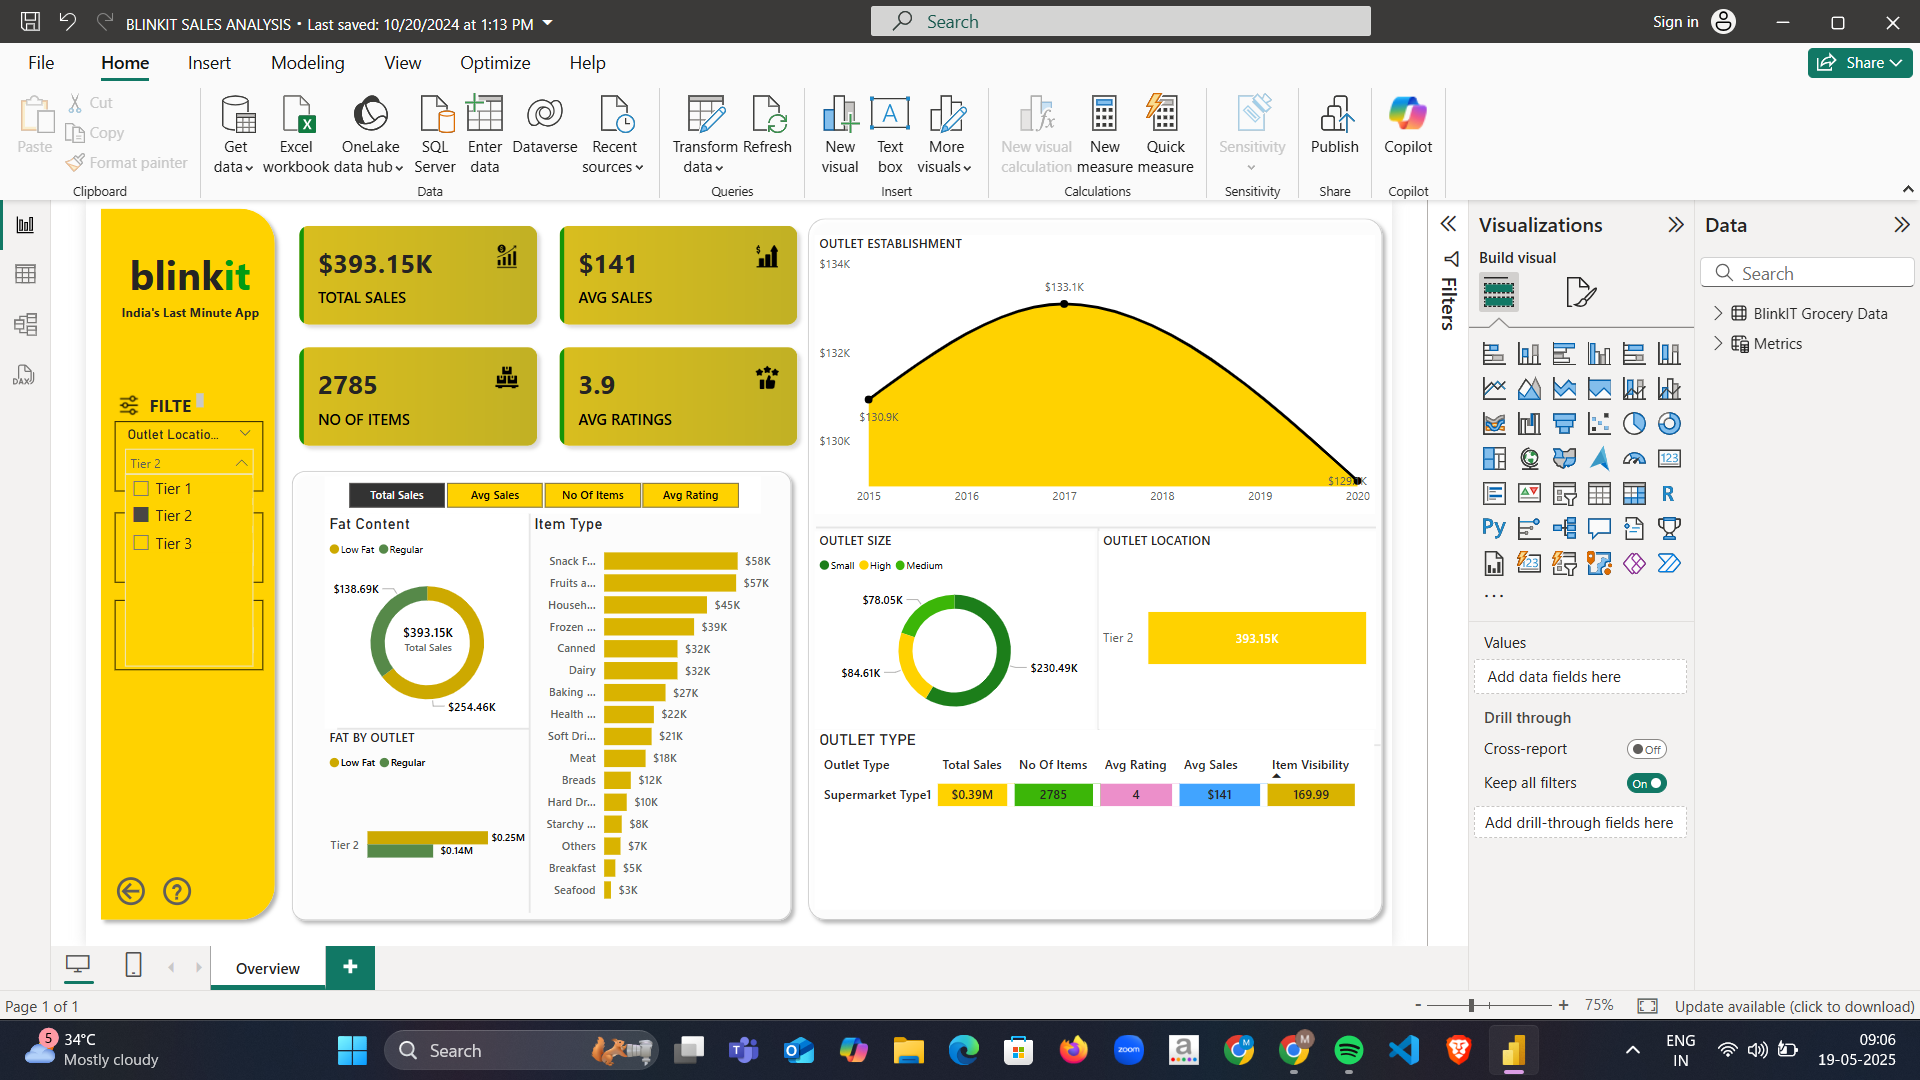

This screenshot's page, from the dashboard's own definition file:
{"tool":"powerbi","page":{"name":"Overview","canvas":[1400,800],"ordinal":0},"visuals":[{"type":"shape","box":[6.7,0,205,781.7],"z":0},{"type":"textbox","box":[33.5,45.6,155.5,80.4],"z":1000},{"type":"textbox","box":[26.8,105.9,170.2,40.2],"z":2000},{"type":"cardVisual","fields":{"Data":["BlinkIT Grocery Data.Total Sales","BlinkIT Grocery Data.Avg Sales","BlinkIT Grocery Data.No Of Items","BlinkIT Grocery Data.Avg Rating"]},"box":[211.8,10.7,569.7,270.8],"z":3000},{"type":"shape","box":[211.8,281.5,553.6,500],"z":4000},{"type":"donutChart","title":"Fat Content","fields":{"Y":["BlinkIT Grocery Data.Total Sales"],"Category":["BlinkIT Grocery Data.Item Fat Content"]},"box":[256,336.5,219.8,230.6],"z":5000},{"type":"slicer","title":"FAT CONTENT","fields":{"Values":["Metrics.Metrics"]},"box":[256,296.2,467.8,40.2],"z":6000},{"type":"cardVisual","fields":{"Data":["BlinkIT Grocery Data.Total Sales"]},"box":[320,436.7,93.3,66.7],"z":7000},{"type":"clusteredBarChart","title":"FAT BY OUTLET","fields":{"Y":["BlinkIT Grocery Data.Total Sales"],"Category":["BlinkIT Grocery Data.Outlet Location Type"],"Series":["BlinkIT Grocery Data.Item Fat Content"]},"box":[256.7,566.7,220,196.7],"z":8000},{"type":"shape","box":[269.4,549.6,206.4,34.9],"z":9000},{"type":"shape","box":[463.8,336.5,24.1,427.6],"z":10000},{"type":"barChart","title":"Item Type","fields":{"Y":["BlinkIT Grocery Data.Total Sales"],"Category":["BlinkIT Grocery Data.Item Type"]},"box":[475.9,336.5,269.4,427.6],"z":11000},{"type":"shape","box":[765.4,10.7,634.1,770.8],"z":12000},{"type":"lineChart","title":"OUTLET ESTABLISHMENT","fields":{"Y":["BlinkIT Grocery Data.Total Sales"],"Category":["BlinkIT Grocery Data.Outlet Establishment Year"]},"box":[781.5,37.5,600.5,298.9],"z":13000},{"type":"shape","box":[782.8,336.5,600.5,29.5],"z":14000},{"type":"donutChart","title":"OUTLET SIZE","fields":{"Category":["BlinkIT Grocery Data.Outlet Size"],"Y":["BlinkIT Grocery Data.Total Sales"]},"box":[781.5,355.2,300.3,211.8],"z":15000},{"type":"shape","box":[1071.1,351.2,29.5,233.2],"z":16000},{"type":"shape","box":[782.8,568.4,303,33.5],"z":17000},{"type":"funnel","title":"OUTLET LOCATION","fields":{"Category":["BlinkIT Grocery Data.Outlet Location Type"],"Y":["Sum(BlinkIT Grocery Data.Sales)"]},"box":[1085.5,355.5,297.3,211.8],"z":18000},{"type":"shape","box":[1085.8,568.3,302.5,32.5],"z":19000},{"type":"pivotTable","title":"OUTLET TYPE","fields":{"Rows":["BlinkIT Grocery Data.Outlet Type"],"Values":["BlinkIT Grocery Data.Total Sales","BlinkIT Grocery Data.No Of Items","BlinkIT Grocery Data.Avg Rating","BlinkIT Grocery Data.Avg Sales","Sum(BlinkIT Grocery Data.Item Visibility)"]},"box":[781.4,568.6,600,192.9],"z":20000},{"type":"slicer","fields":{"Values":["BlinkIT Grocery Data.Outlet Location Type"]},"box":[31.4,237.5,159.5,75.1],"z":21000},{"type":"slicer","fields":{"Values":["BlinkIT Grocery Data.Outlet Size"]},"box":[31.4,335.4,159.5,75.1],"z":21001},{"type":"textbox","box":[63.5,202.7,68.4,34.9],"z":21002},{"type":"slicer","fields":{"Values":["BlinkIT Grocery Data.Item Type"]},"box":[31.4,429.2,159.5,75.1],"z":21003},{"type":"image","box":[27.3,197.3,38.9,45.6],"z":21004},{"type":"actionButton","box":[28.2,721.2,49.6,40.2],"z":21005},{"type":"actionButton","box":[77.7,721.2,50.9,40.2],"z":21007}]}

Visuals, with their boxes on the page's 1400x800 design canvas (x1, y1, x2, y2). These are canvas units, not pixel positions in the 1920x1080 screenshot, which may show the page scaled, cropped or inside an application window:
shape: (x1=7, y1=0, x2=212, y2=782)
textbox: (x1=34, y1=46, x2=189, y2=126)
textbox: (x1=27, y1=106, x2=197, y2=146)
cardVisual - BlinkIT Grocery Data.Total Sales x BlinkIT Grocery Data.Avg Sales: (x1=212, y1=11, x2=782, y2=282)
shape: (x1=212, y1=282, x2=765, y2=782)
"Fat Content" donutChart: (x1=256, y1=336, x2=476, y2=567)
"FAT CONTENT" slicer: (x1=256, y1=296, x2=724, y2=336)
cardVisual - BlinkIT Grocery Data.Total Sales: (x1=320, y1=437, x2=413, y2=503)
"FAT BY OUTLET" clusteredBarChart: (x1=257, y1=567, x2=477, y2=763)
shape: (x1=269, y1=550, x2=476, y2=584)
shape: (x1=464, y1=336, x2=488, y2=764)
"Item Type" barChart: (x1=476, y1=336, x2=745, y2=764)
shape: (x1=765, y1=11, x2=1400, y2=782)
"OUTLET ESTABLISHMENT" lineChart: (x1=782, y1=38, x2=1382, y2=336)
shape: (x1=783, y1=336, x2=1383, y2=366)
"OUTLET SIZE" donutChart: (x1=782, y1=355, x2=1082, y2=567)
shape: (x1=1071, y1=351, x2=1101, y2=584)
shape: (x1=783, y1=568, x2=1086, y2=602)
"OUTLET LOCATION" funnel: (x1=1086, y1=356, x2=1383, y2=567)
shape: (x1=1086, y1=568, x2=1388, y2=601)
"OUTLET TYPE" pivotTable: (x1=781, y1=569, x2=1381, y2=762)
slicer - BlinkIT Grocery Data.Outlet Location Type: (x1=31, y1=238, x2=191, y2=313)
slicer - BlinkIT Grocery Data.Outlet Size: (x1=31, y1=335, x2=191, y2=410)
textbox: (x1=64, y1=203, x2=132, y2=238)
slicer - BlinkIT Grocery Data.Item Type: (x1=31, y1=429, x2=191, y2=504)
image: (x1=27, y1=197, x2=66, y2=243)
actionButton: (x1=28, y1=721, x2=78, y2=761)
actionButton: (x1=78, y1=721, x2=129, y2=761)
